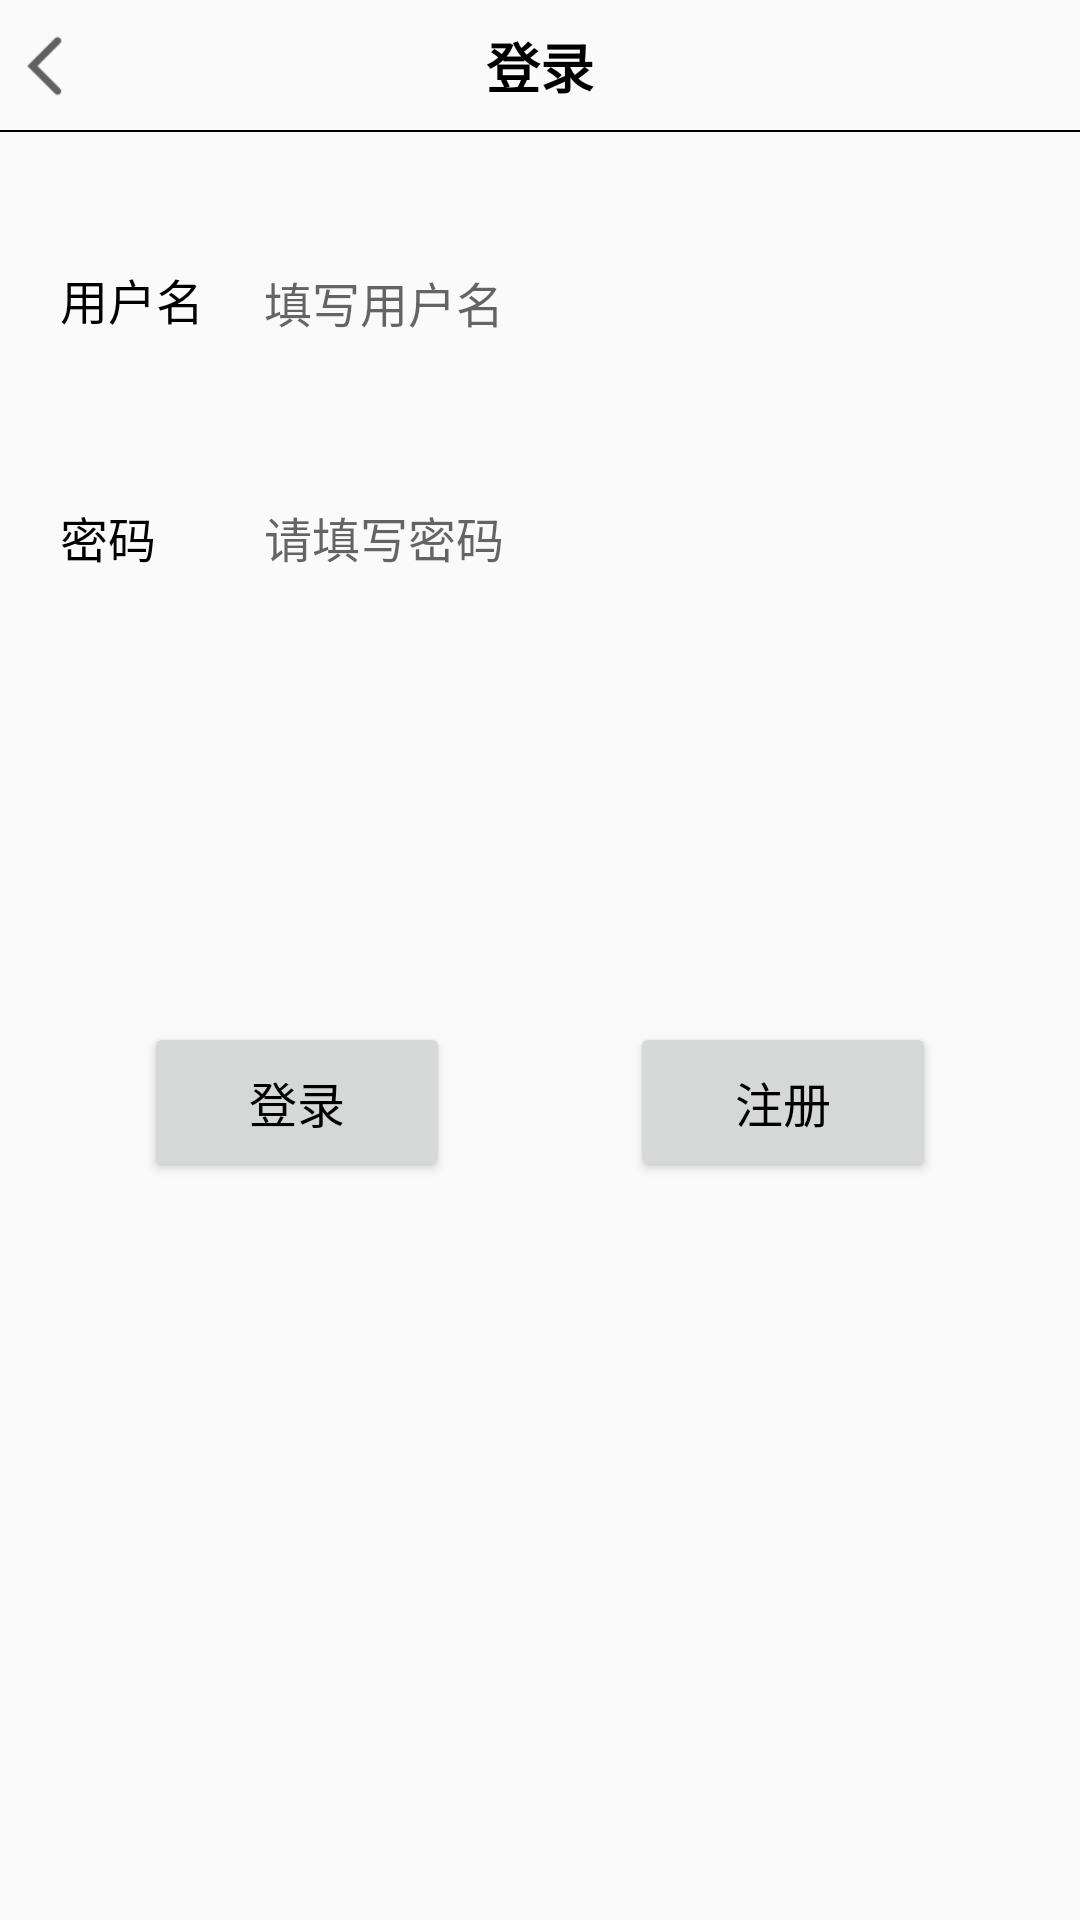

Locate icon controls on the screen. Image size 1080x1920, boxes as box=[x1, y1, x2, y2].
title back: box=[27, 36, 62, 96]
